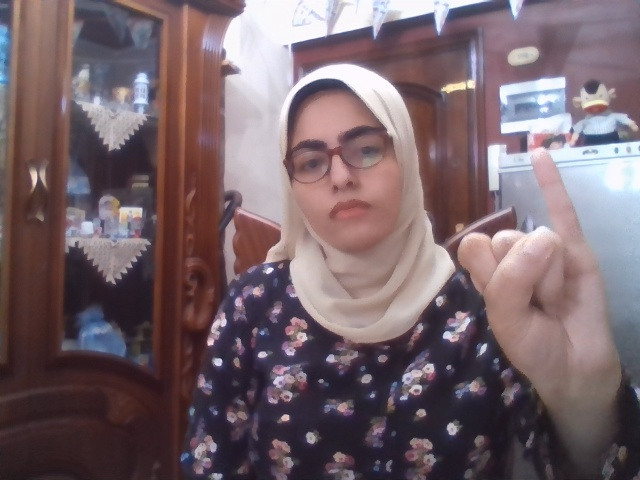I: (458, 147, 618, 385)
